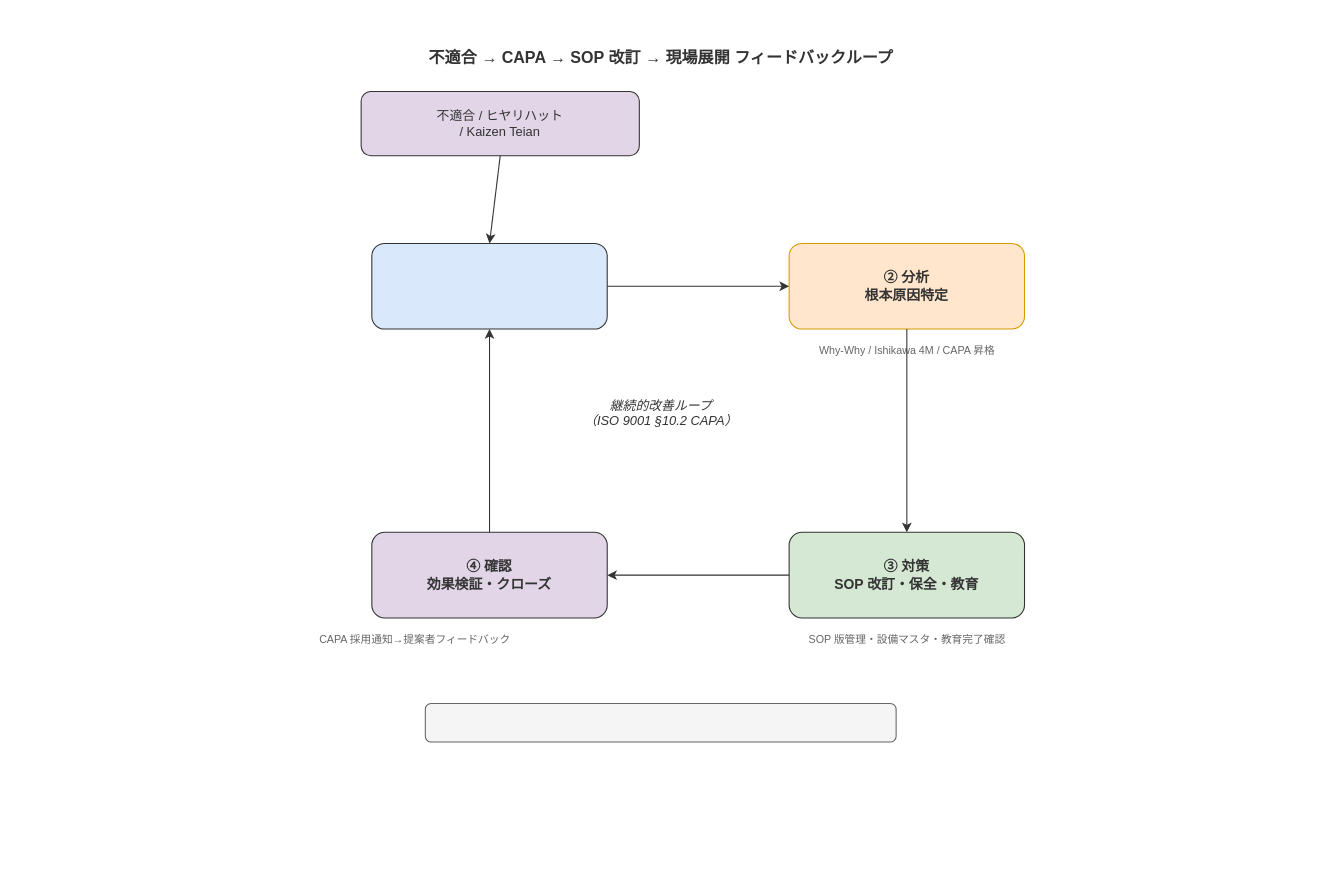
This 1320x892 diagram has some shape labels left out. The shapes that lost their labels are listed below. From the top down, each one's centre as x and y in pixels, then its label:
At point 489,285: "① 検知 起票・受付".
At point 660,722: "健全性指標: 採用率 / 平均クローズ日数 / 未読件数".
